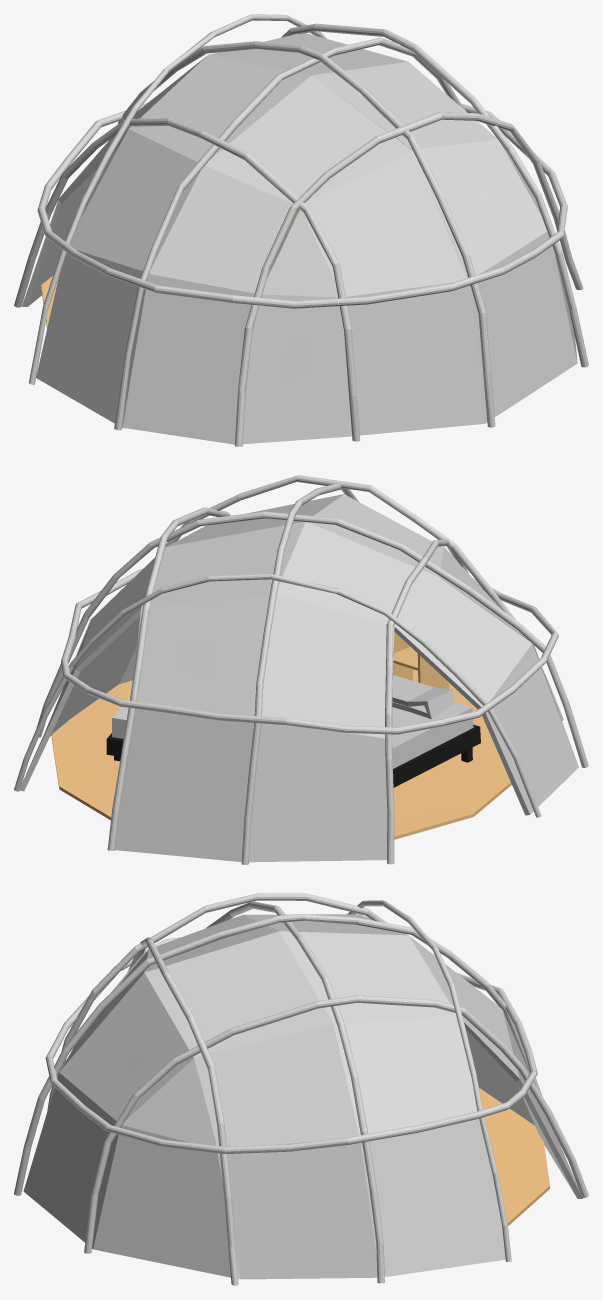
3 renders of one model, top to bottom at view 1: azimuth 30°, elevation 25°; view 2: azimuth 150°, elevation 25°; view 3: azimuth 270°, elevation 25°, orthographic. The views are drawn at different scales.
Visible parts, largest first — view 1: mesh_2033712498, mesh_202809250, mesh_1890463173, mesh_202095401, mesh_709100622, mesh_1745571414, mesh_97029854, mesh_1176821425; view 2: mesh_2033712498, mesh_1788595096, group_463774242, mesh_202809250, mesh_1745571414, mesh_1176821425, mesh_709100622, mesh_97029854, mesh_1890463173, mesh_202095401, group_833190441, group_203602537; view 3: mesh_2033712498, mesh_202809250, mesh_97029854, mesh_709100622, mesh_1788595096, mesh_1745571414, mesh_1890463173, mesh_202095401, mesh_1176821425.
Part boxes in pixels (bbox=[...]): mesh_2033712498: bbox=[22, 33, 577, 444]; mesh_202809250: bbox=[37, 102, 567, 308]; mesh_1890463173: bbox=[234, 112, 583, 446]; mesh_202095401: bbox=[14, 118, 360, 441]; mesh_709100622: bbox=[118, 41, 495, 427]; mesh_1745571414: bbox=[114, 37, 465, 430]; mesh_97029854: bbox=[281, 23, 588, 367]; mesh_1176821425: bbox=[28, 14, 326, 384]; mesh_2033712498: bbox=[19, 494, 578, 862]; mesh_1788595096: bbox=[51, 669, 511, 839]; group_463774242: bbox=[392, 675, 480, 787]; mesh_202809250: bbox=[61, 568, 558, 734]; mesh_1745571414: bbox=[36, 511, 588, 767]; mesh_1176821425: bbox=[14, 574, 541, 817]; mesh_709100622: bbox=[241, 483, 358, 864]; mesh_97029854: bbox=[107, 507, 230, 850]; mesh_1890463173: bbox=[165, 475, 563, 720]; mesh_202095401: bbox=[385, 539, 468, 864]; group_833190441: bbox=[393, 632, 449, 688]; group_203602537: bbox=[106, 697, 130, 761]; mesh_2033712498: bbox=[23, 914, 582, 1279]; mesh_202809250: bbox=[45, 937, 537, 1153]; mesh_97029854: bbox=[84, 995, 588, 1253]; mesh_709100622: bbox=[14, 914, 542, 1195]; mesh_1788595096: bbox=[479, 1088, 549, 1225]; mesh_1745571414: bbox=[206, 901, 384, 1283]; mesh_1890463173: bbox=[127, 937, 238, 1285]; mesh_202095401: bbox=[47, 893, 386, 1110]; mesh_1176821425: bbox=[347, 900, 511, 1261].
Bounding box in the file's own units: 377 × 195 × 384.
